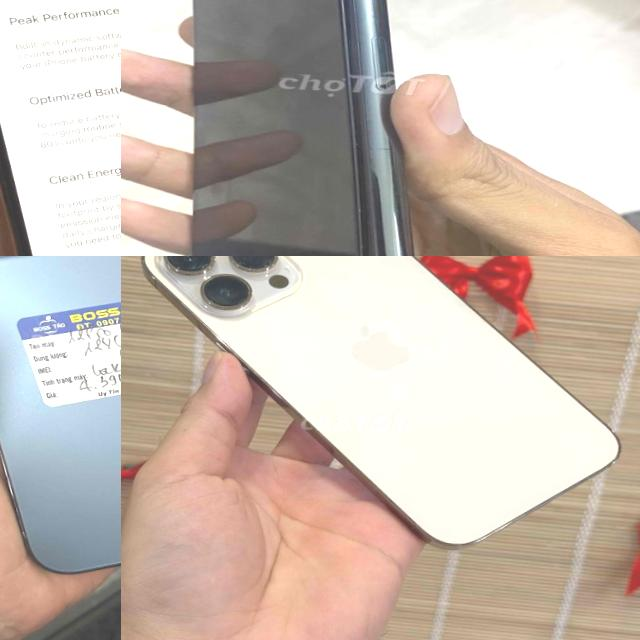gen_11: (158, 0, 454, 256)
gen_12_13: (0, 256, 121, 586), (0, 0, 121, 256)
gen_14: (121, 256, 638, 565)
